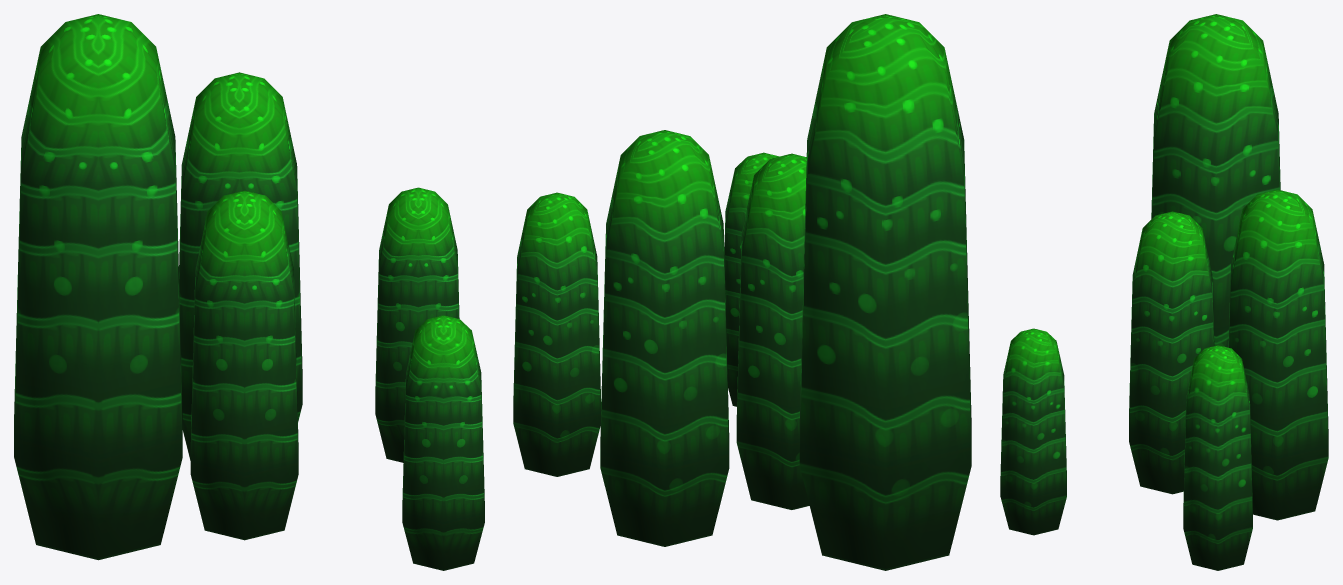
File: Coral_15a.FBX
The picture shows the model from 3 angles, left to right: view 1: azimuth 30°, elevation 25°; view 2: azimuth 150°, elevation 25°; view 3: azimuth 270°, elevation 25°; orthographic projection. The views are drawn at different scales.
Parts seen in each view (by area): view 1: Coral_15a; view 2: Coral_15a; view 3: Coral_15a.
Boxes of the visible parts, x1,y1,x2,y2 form: Coral_15a: (14, 14, 484, 570); Coral_15a: (513, 14, 971, 570); Coral_15a: (1000, 14, 1328, 570).
Size of the model in its own units: 74.14 by 80.82 by 58.08.
